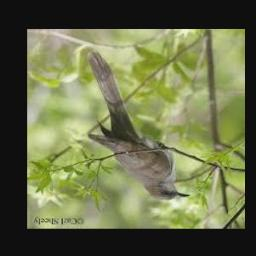Cuckoo: (88, 51, 190, 200)
